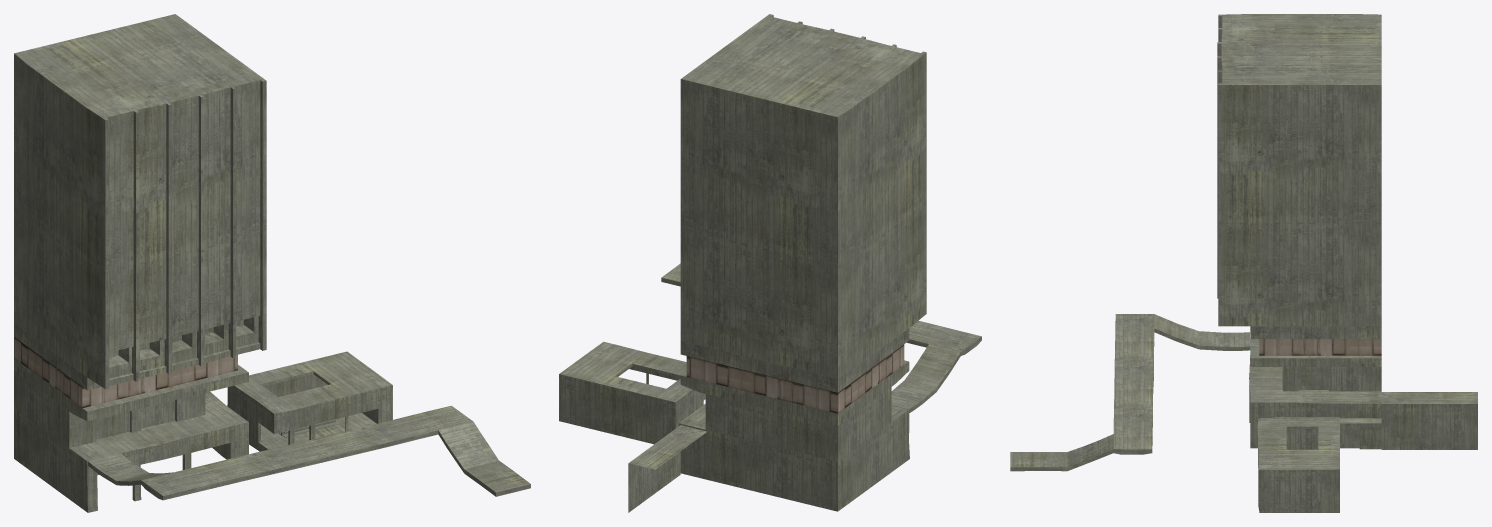
3 views of the same model, side by side, from view 1: azimuth 30°, elevation 25°; view 2: azimuth 150°, elevation 25°; view 3: azimuth 270°, elevation 25° (orthographic). The views are drawn at different scales.
Visible parts, largest first — view 1: SM_HK_02_00.004; view 2: SM_HK_02_00.004; view 3: SM_HK_02_00.004.
Part boxes in pixels (x1,y1,x2,y2): SM_HK_02_00.004: (14, 14, 530, 512); SM_HK_02_00.004: (559, 14, 981, 512); SM_HK_02_00.004: (1010, 14, 1477, 512).
Size of the model in its own units: 3809 by 4759 by 5531.
